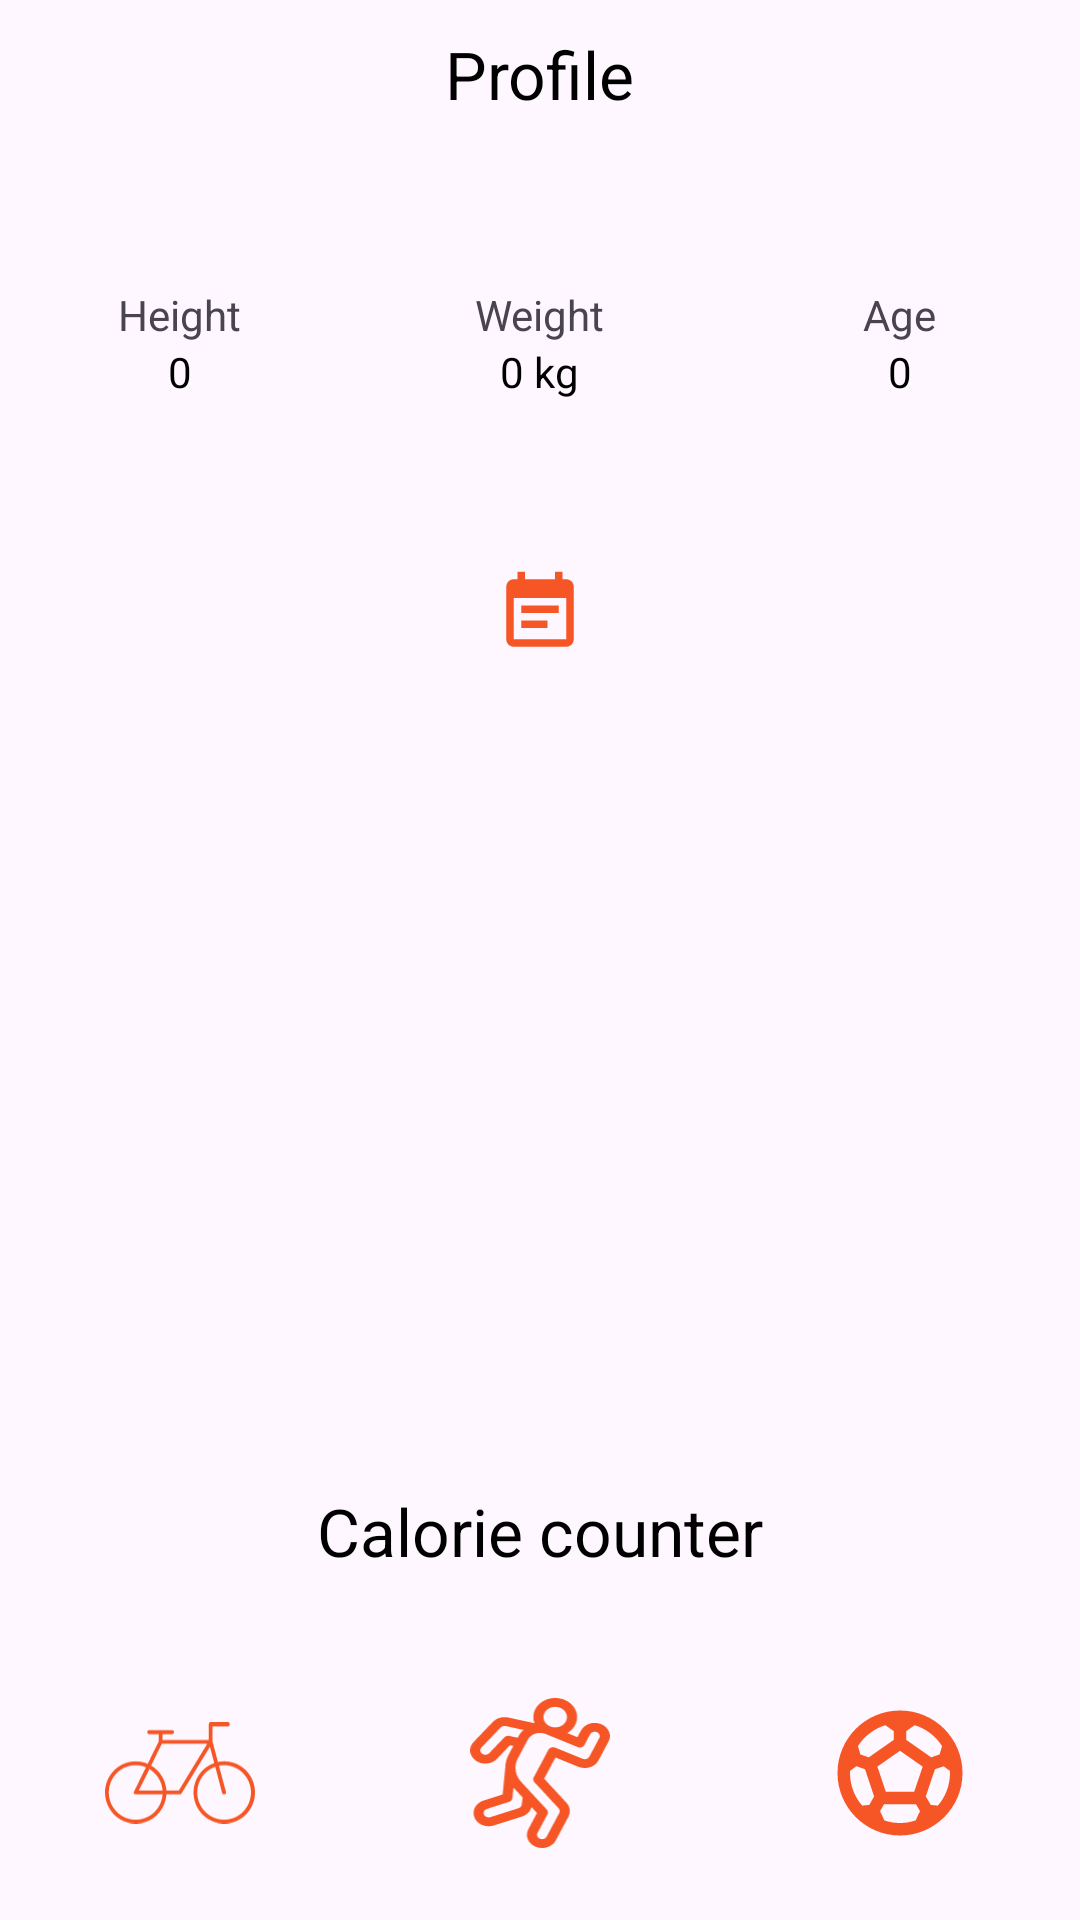

Named icons in this screenshot (1080×1920) and their centers, (x,y):
plan: (540,609)
run: (540,1773)
sport: (900,1773)
